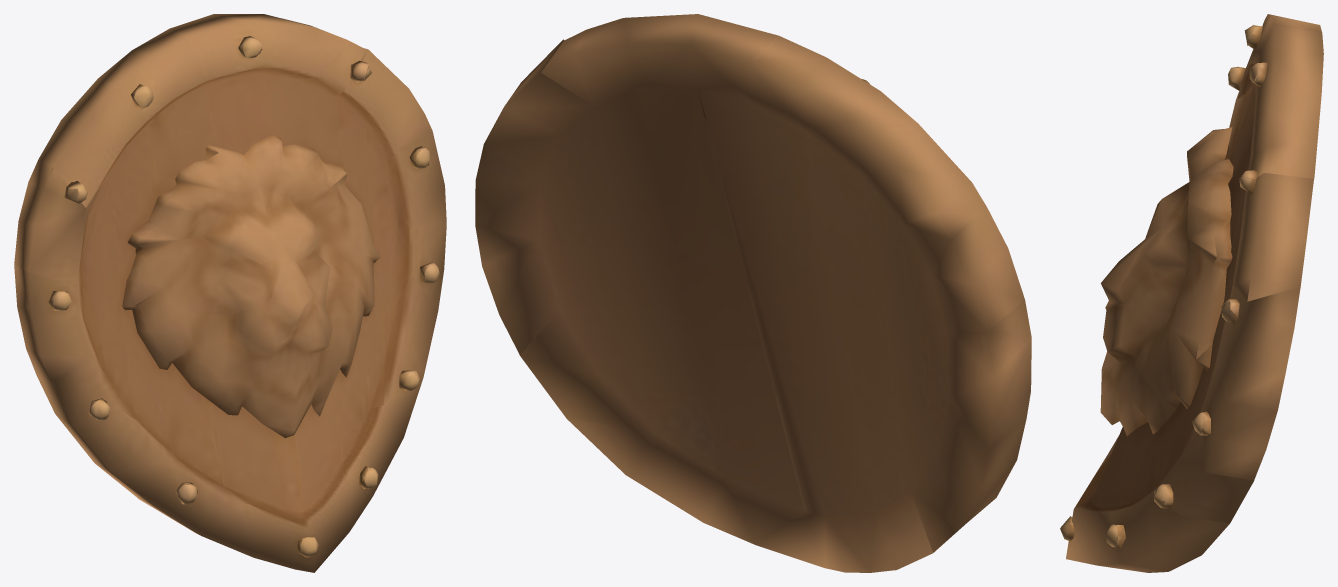
The model's file is power_shield.glb.
3 views of the same model, side by side, from view 1: azimuth 30°, elevation 25°; view 2: azimuth 150°, elevation 25°; view 3: azimuth 270°, elevation 25° (orthographic). The views are drawn at different scales.
Visible parts, largest first — view 1: power_shield; view 2: power_shield; view 3: power_shield.
Part boxes in pixels (box(x1,y1,x2,y2)): power_shield: box(14, 14, 446, 572); power_shield: box(475, 14, 1031, 572); power_shield: box(1060, 14, 1323, 572).
Bounding box in the file's own units: 0.7738 × 0.8503 × 0.3861.
1 material, 1 textured.
